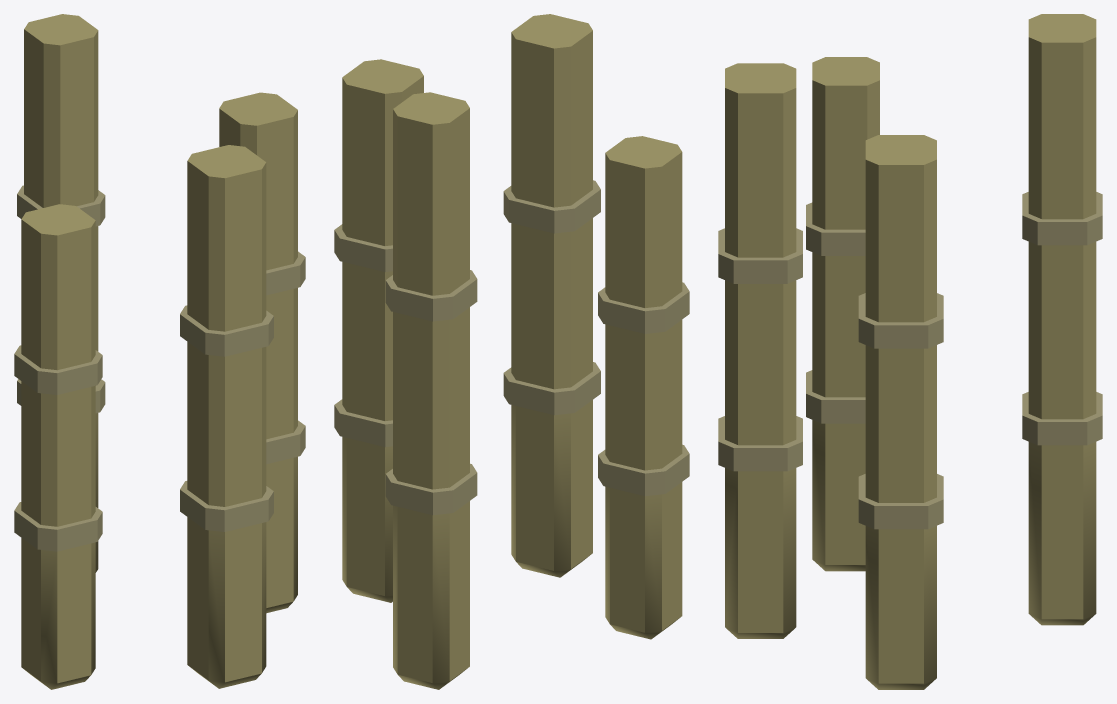
Rendered from bamboo-3.glb.
3 views of the same model, side by side, from view 1: azimuth 30°, elevation 25°; view 2: azimuth 150°, elevation 25°; view 3: azimuth 270°, elevation 25° (orthographic). The views are drawn at different scales.
Parts seen in each view (by area): view 1: Bamboo_Mid; view 2: Bamboo_Mid; view 3: Bamboo_Mid.
Boxes of the visible parts, x1=… form: Bamboo_Mid: x1=14, y1=14, x2=305, y2=689; Bamboo_Mid: x1=334, y1=14, x2=689, y2=689; Bamboo_Mid: x1=718, y1=14, x2=1102, y2=689.
Bounding box in the file's own units: 1.46 × 2.61 × 1.55.
1 material, 1 textured.
